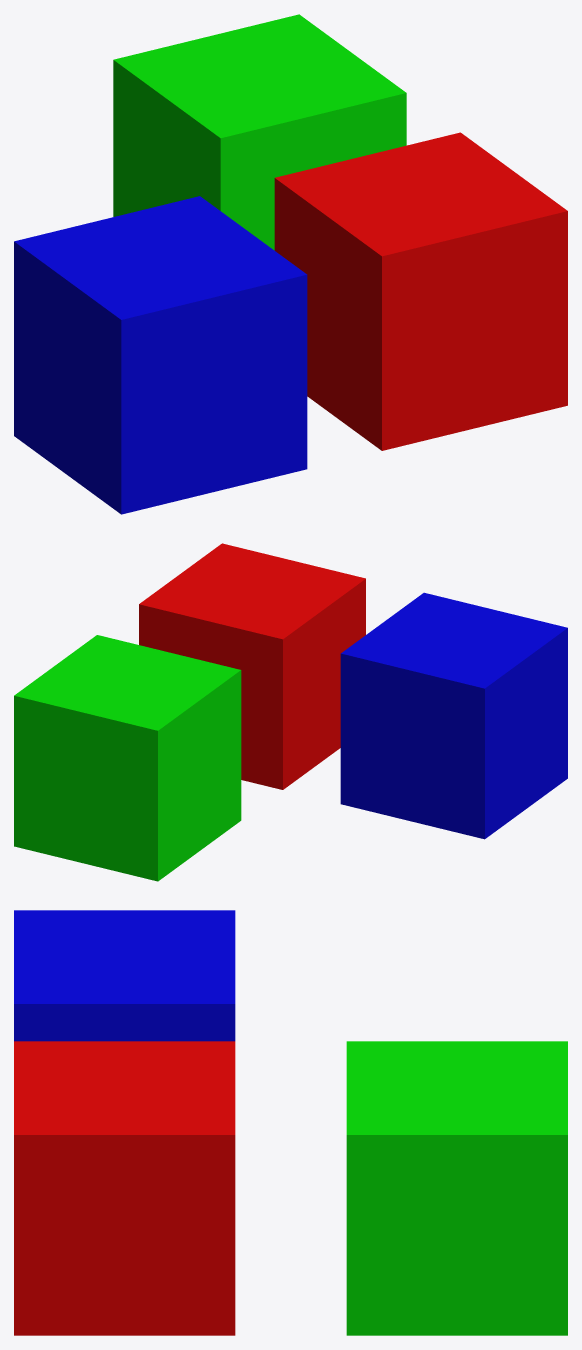
Rendered from properties.gltf.
3 renders of one model, top to bottom at view 1: azimuth 30°, elevation 25°; view 2: azimuth 150°, elevation 25°; view 3: azimuth 270°, elevation 25°, orthographic. The views are drawn at different scales.
Visible parts, largest first — view 1: Cube 3 Node, Cube 1 Node, Cube 2 Node; view 2: Cube 2 Node, Cube 3 Node, Cube 1 Node; view 3: Cube 1 Node, Cube 2 Node, Cube 3 Node.
Boxes of the visible parts, box(x1,y1,x2,y2) form: Cube 3 Node: box(14, 196, 307, 514); Cube 1 Node: box(274, 132, 567, 450); Cube 2 Node: box(113, 14, 406, 250); Cube 2 Node: box(14, 635, 241, 881); Cube 3 Node: box(340, 592, 567, 839); Cube 1 Node: box(139, 543, 365, 789); Cube 1 Node: box(14, 1041, 235, 1335); Cube 2 Node: box(346, 1041, 567, 1335); Cube 3 Node: box(14, 910, 235, 1041).
Size of the model in its own units: 4.8 by 2 by 5.
